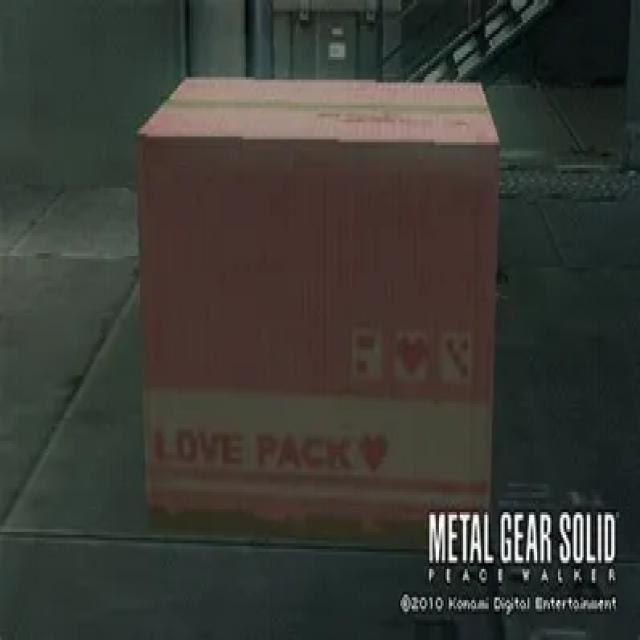snake-in-cardboard-boxes: (133, 74, 504, 522)
